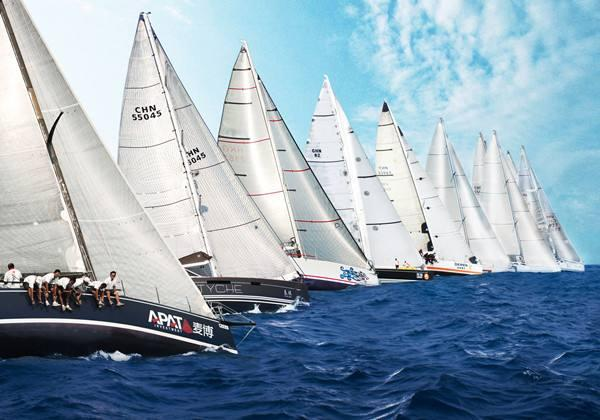fanchuan: (2, 1, 240, 356), (117, 9, 314, 308), (211, 32, 383, 291), (293, 73, 439, 281), (367, 99, 487, 278), (406, 115, 520, 274), (460, 127, 566, 273), (500, 144, 589, 270)
